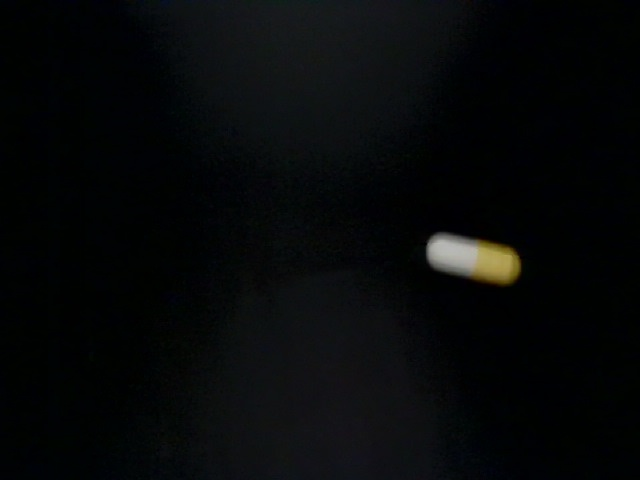YHLJ: (130, 102, 364, 244)
